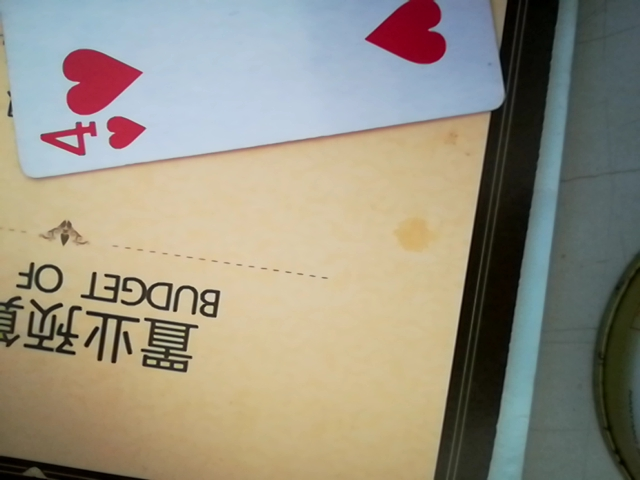hx 4: (3, 0, 507, 181)
